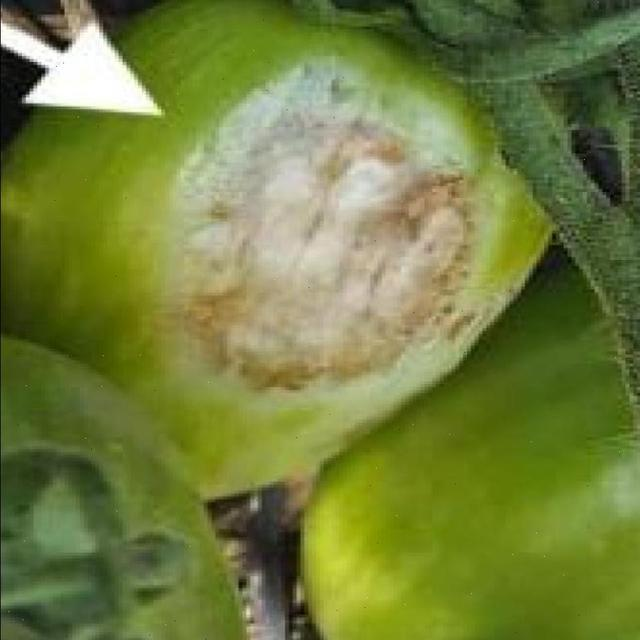Sunscald Fruit: (95, 37, 336, 280)
